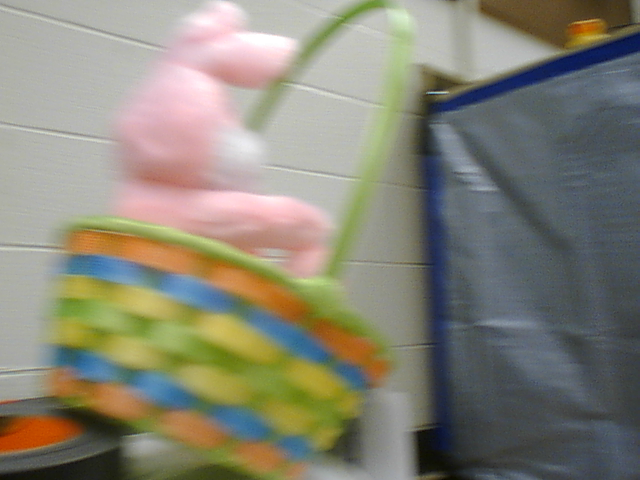bunny: (18, 1, 416, 479)
